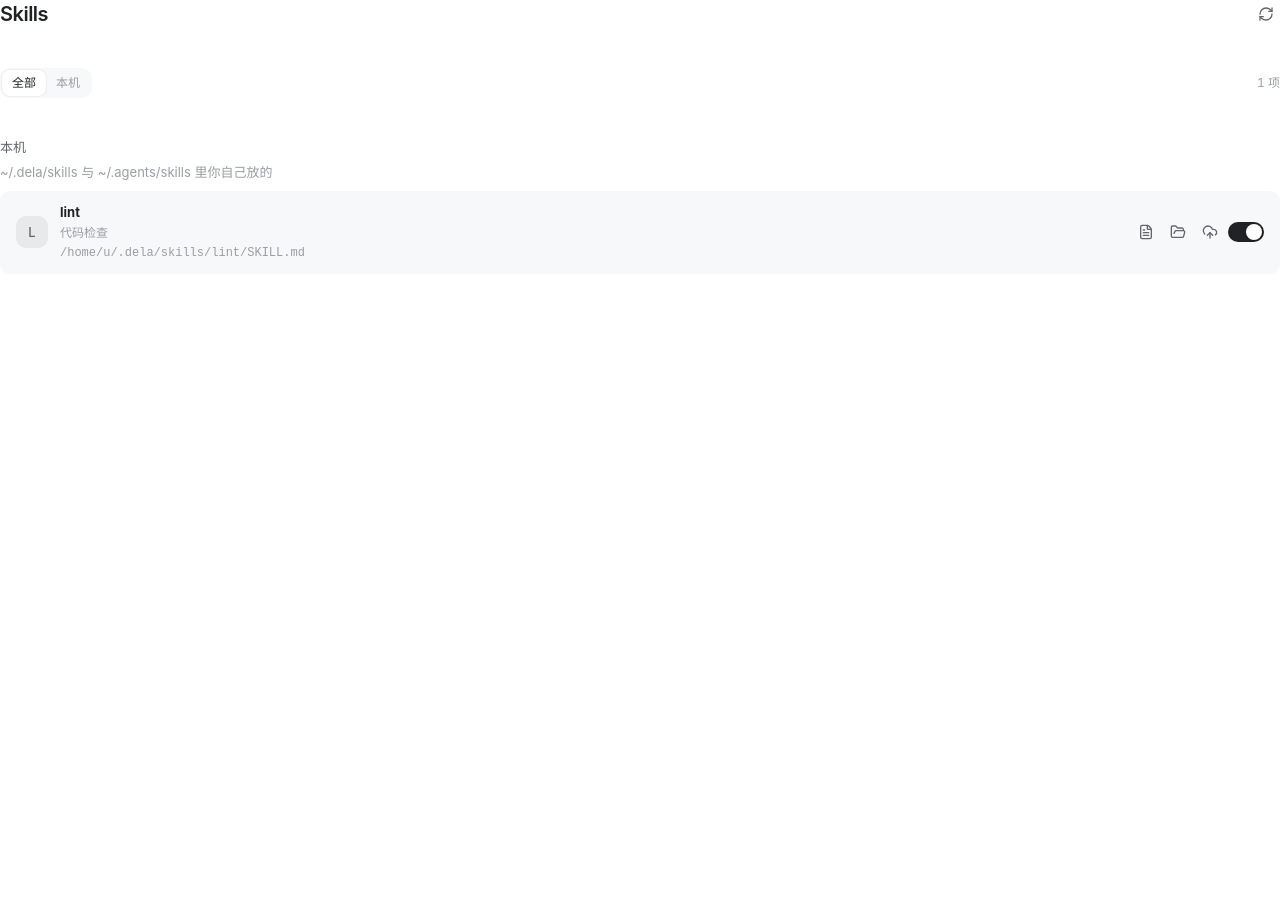
uploads to the selected remote project
This screenshot has width=1280, height=900.
Click the button named "上传 lint 到远端项目" at (1210,232), box [1196,218,1224,246]
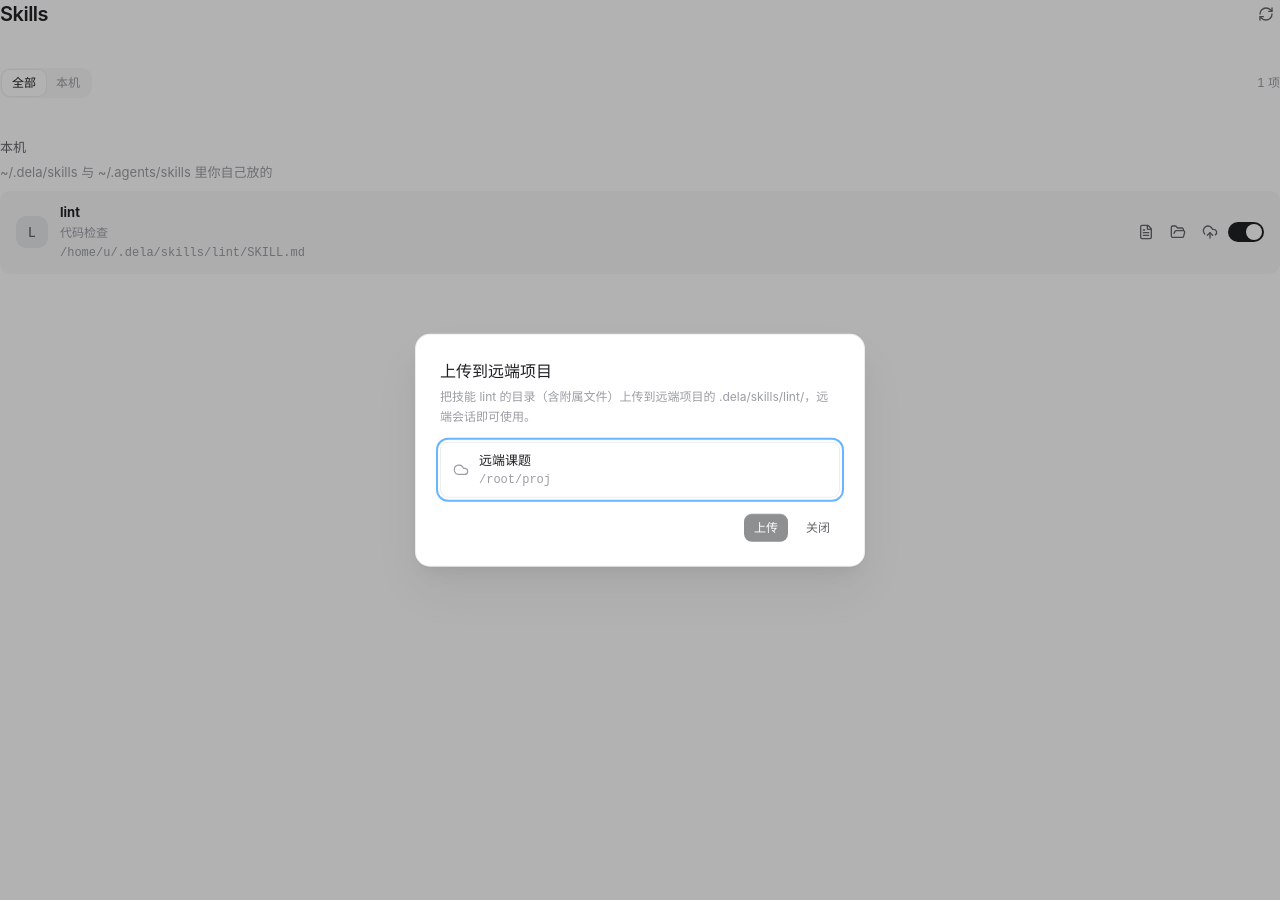
Click the button "远端课题 /root/proj" at (505,460), box [440,442,840,497]
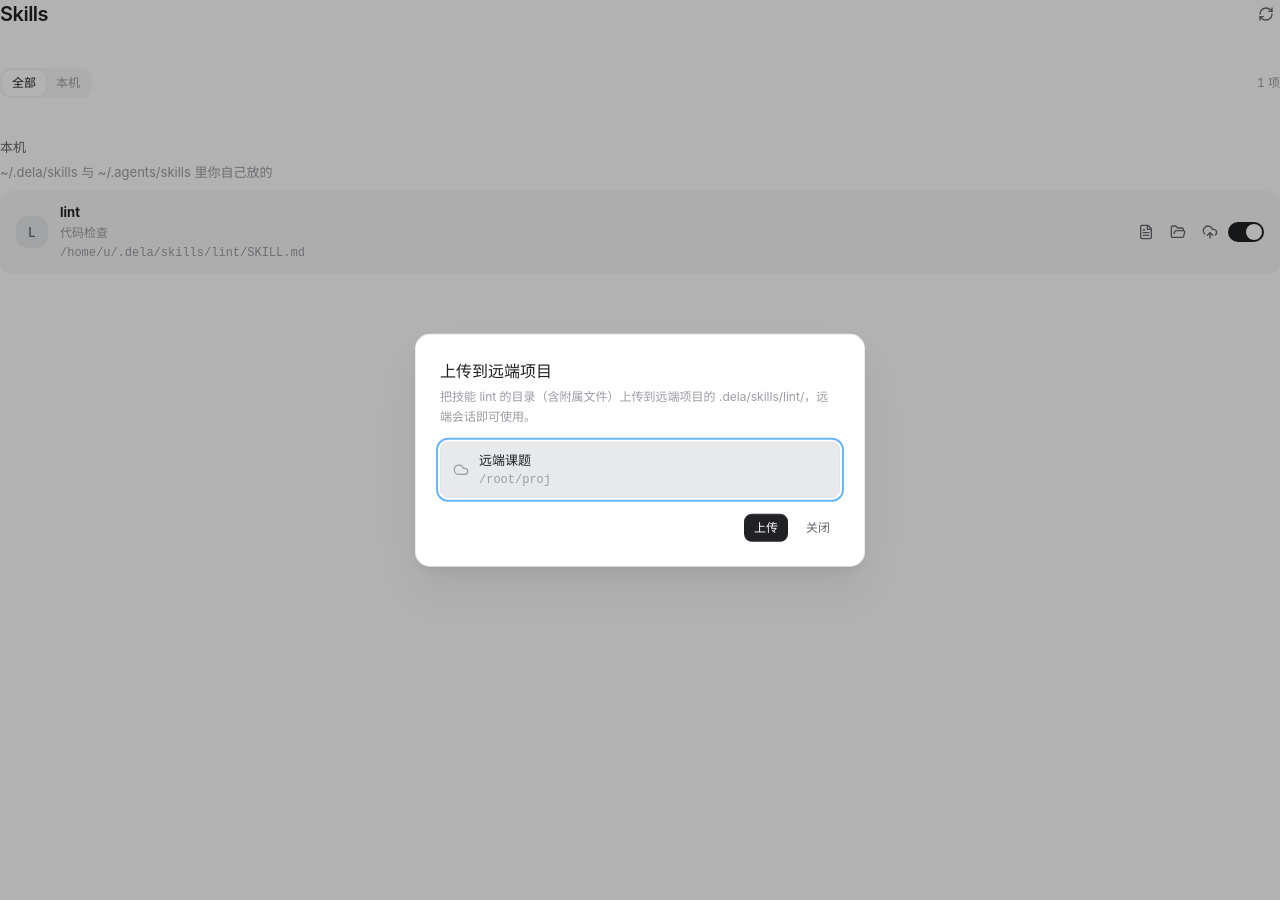
Click the button "上传" at (766,527), box [744,513,788,541]
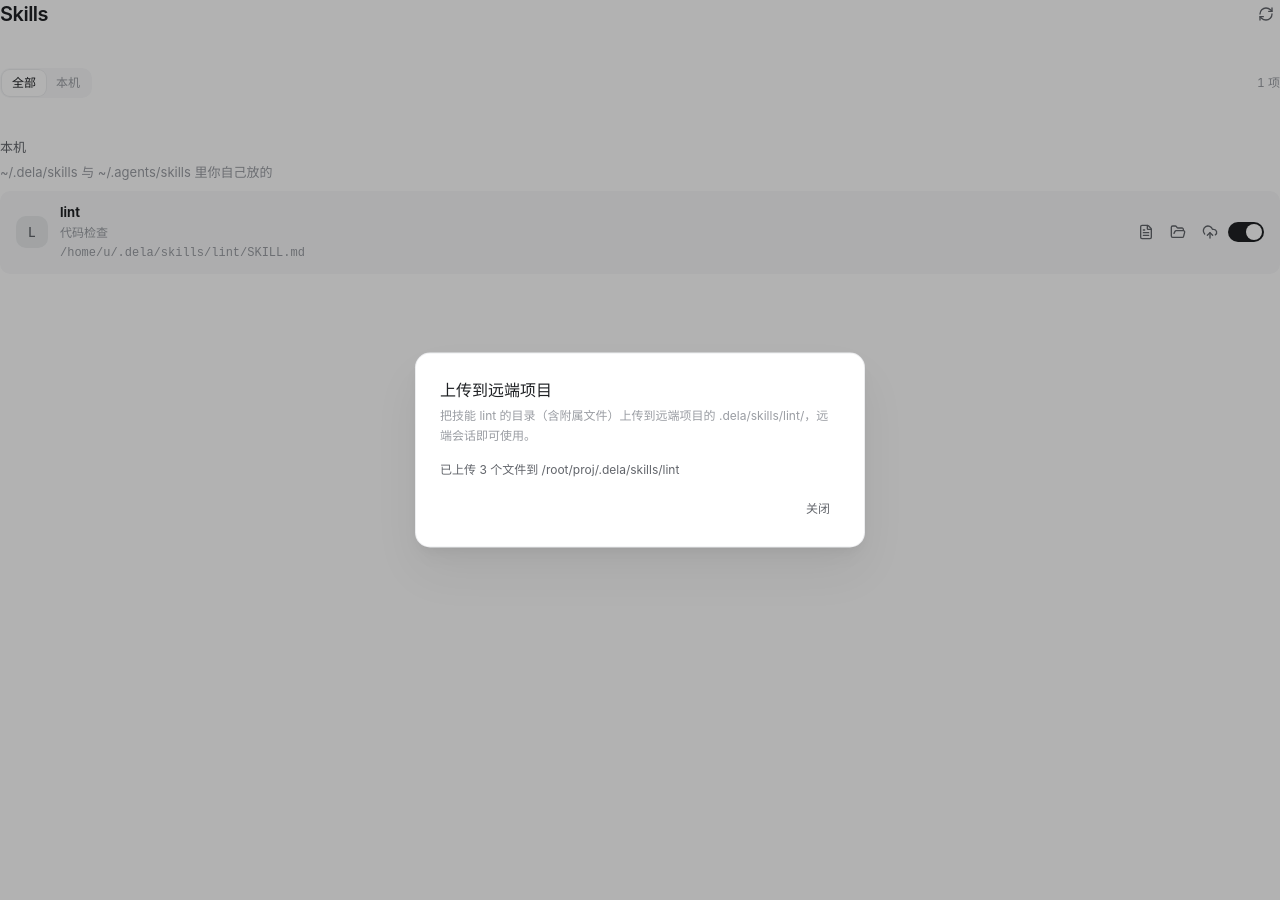
Expected: the text "/root/proj/.dela/skills/lint" is shown, [542,462,679,476]
